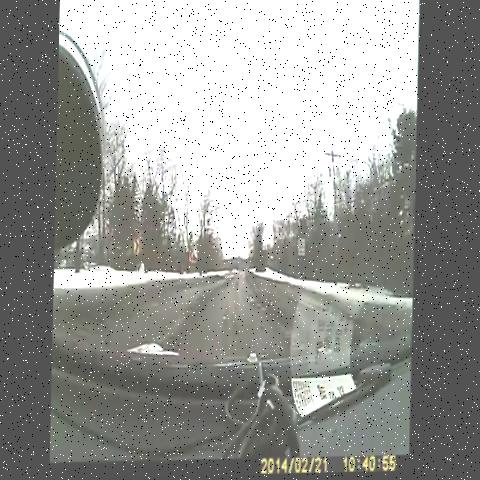pothole: (244, 290, 271, 331)
